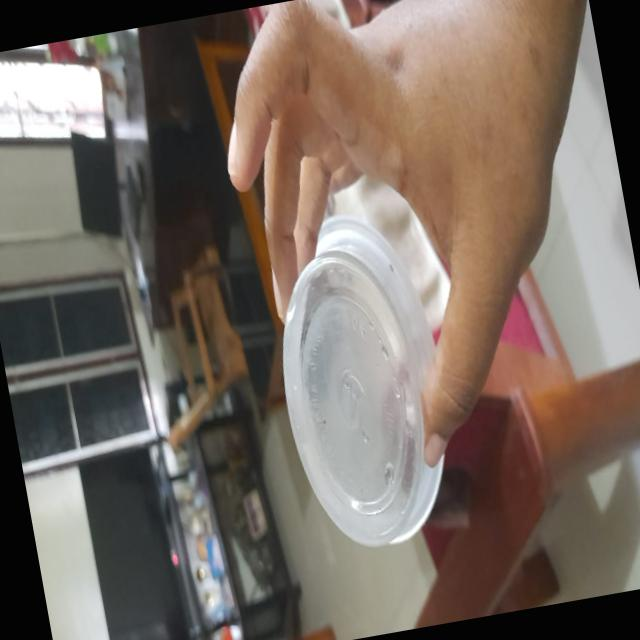Plastic - Recyclable: (252, 199, 468, 561)
